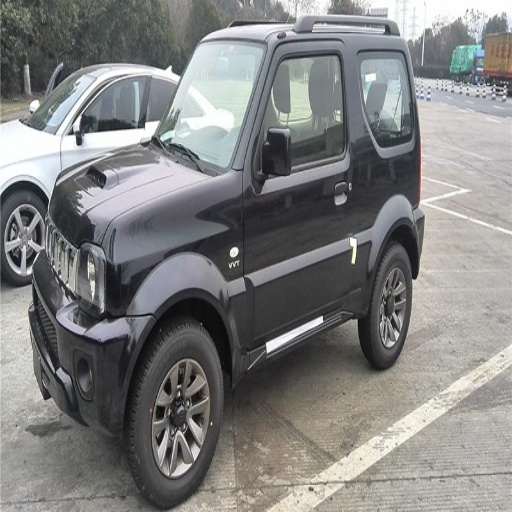front_bumper: (43, 322, 102, 395)
front_glass: (143, 42, 265, 169), (31, 77, 81, 128)
